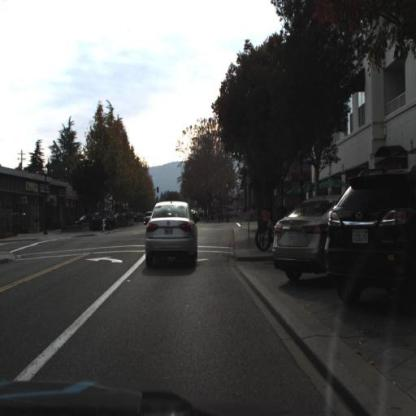car: (324, 167, 416, 305), (271, 196, 326, 282), (144, 202, 199, 270), (77, 212, 108, 232), (144, 212, 153, 231), (192, 210, 201, 223)
pedestrian: (250, 205, 255, 224)
